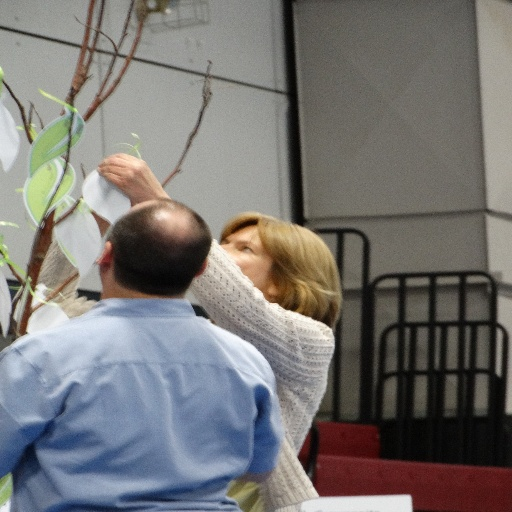hand: (86, 148, 168, 198), (85, 199, 138, 235)
